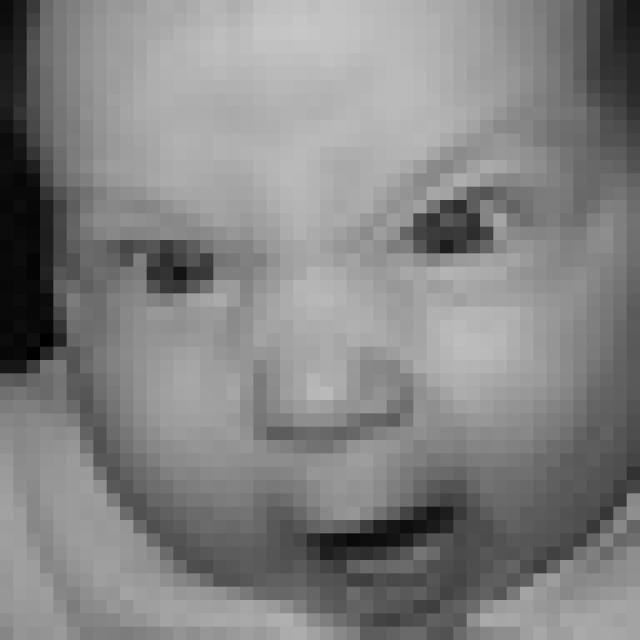angry: (87, 106, 586, 608)
